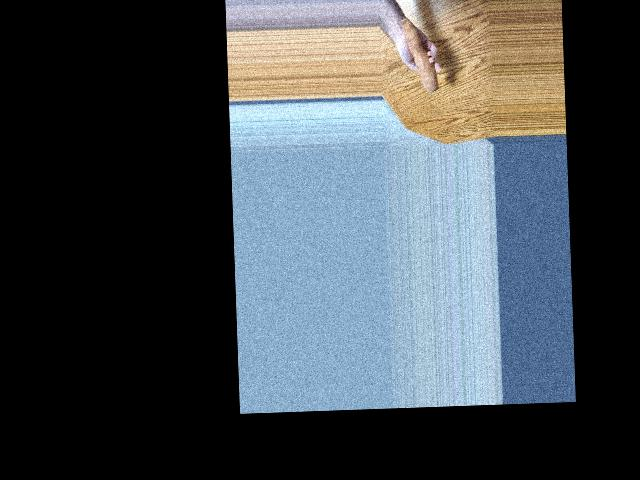sweet_potato: (398, 16, 439, 94)
